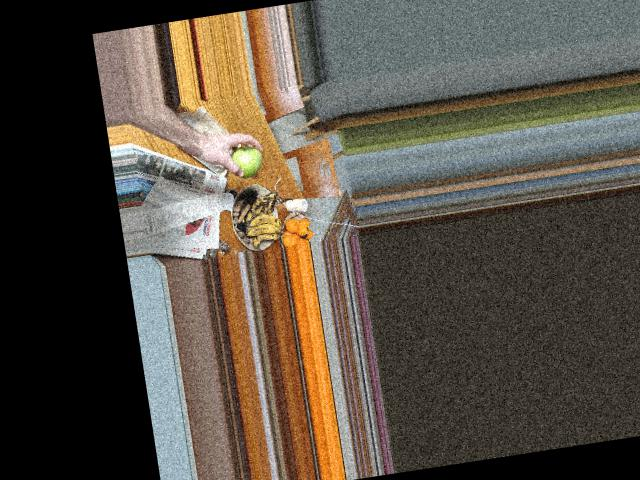apple: (226, 145, 263, 174)
